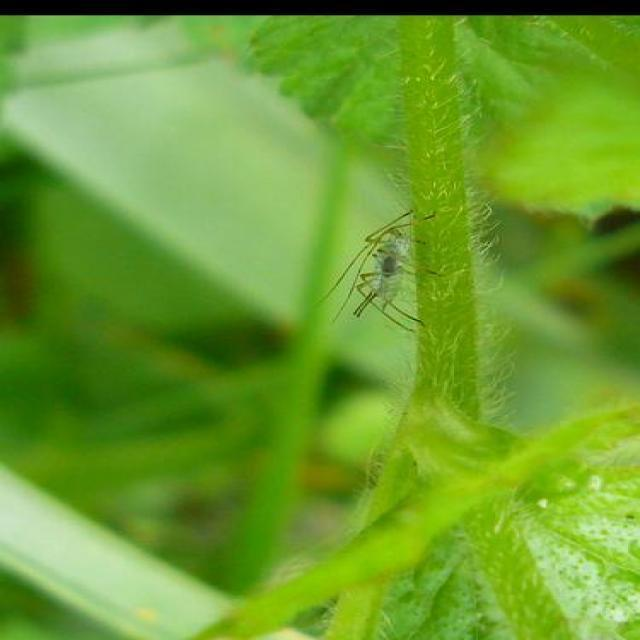aphid: (336, 182, 436, 330)
